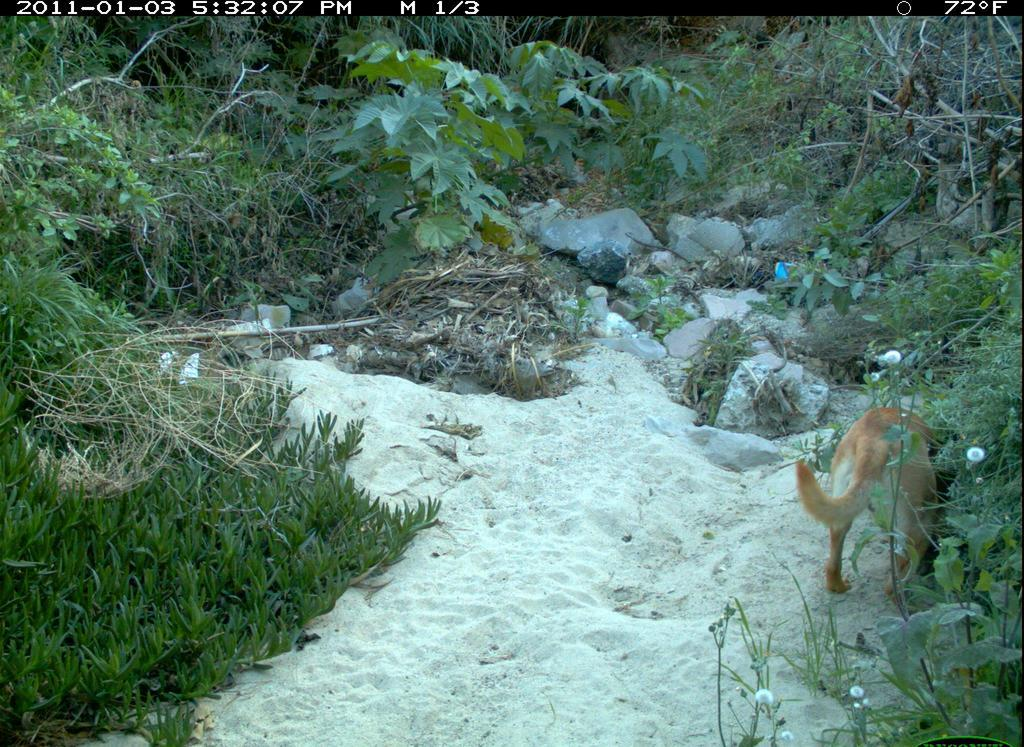dog: (788, 393, 966, 621)
